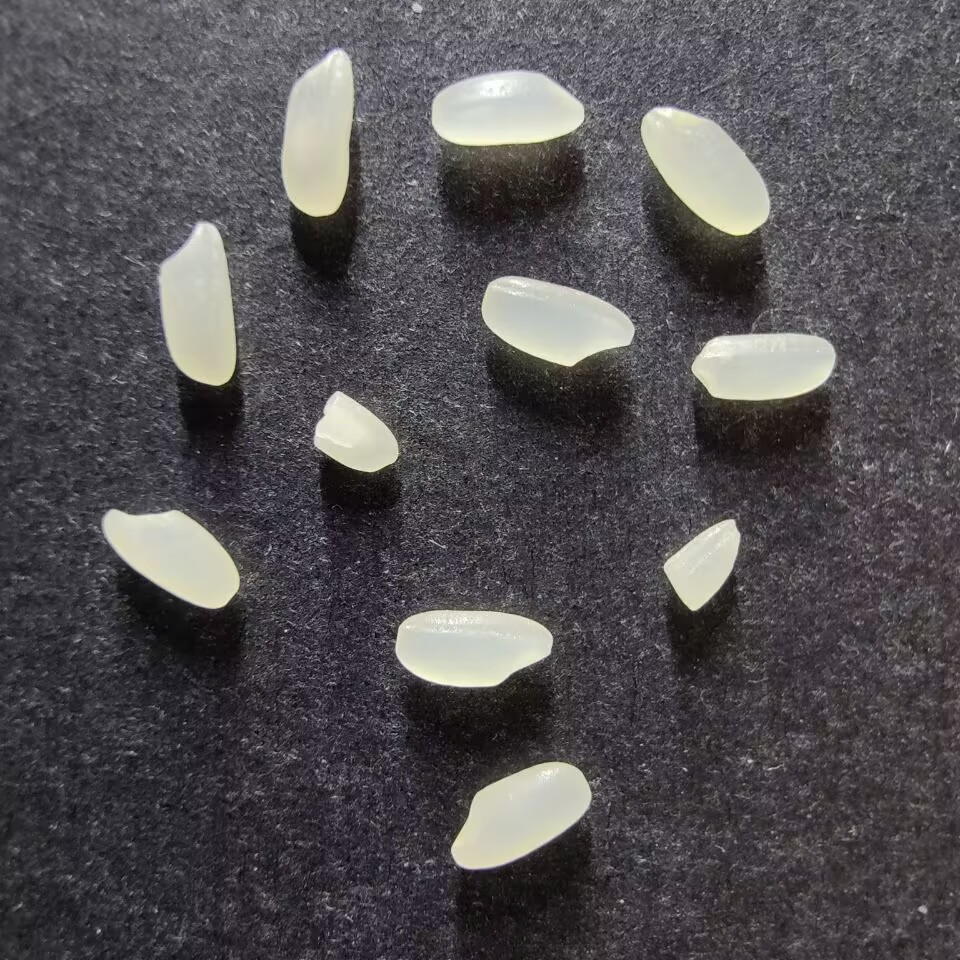broken: (660, 515, 742, 613), (310, 390, 402, 475)
rice: (639, 105, 772, 237), (450, 760, 593, 871), (99, 507, 242, 611), (480, 274, 636, 368), (157, 219, 238, 387), (279, 44, 357, 217), (393, 609, 554, 689), (429, 68, 587, 147), (689, 331, 837, 402)
